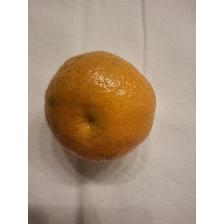Mandarine: (44, 50, 158, 164)
